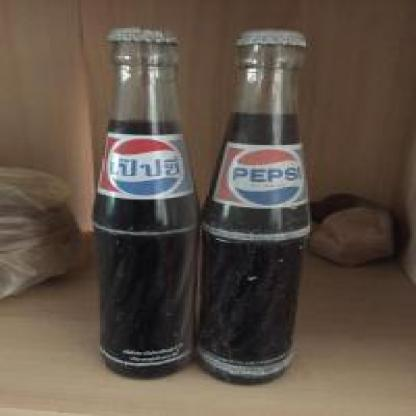Can: (202, 29, 316, 386), (92, 27, 199, 381)
